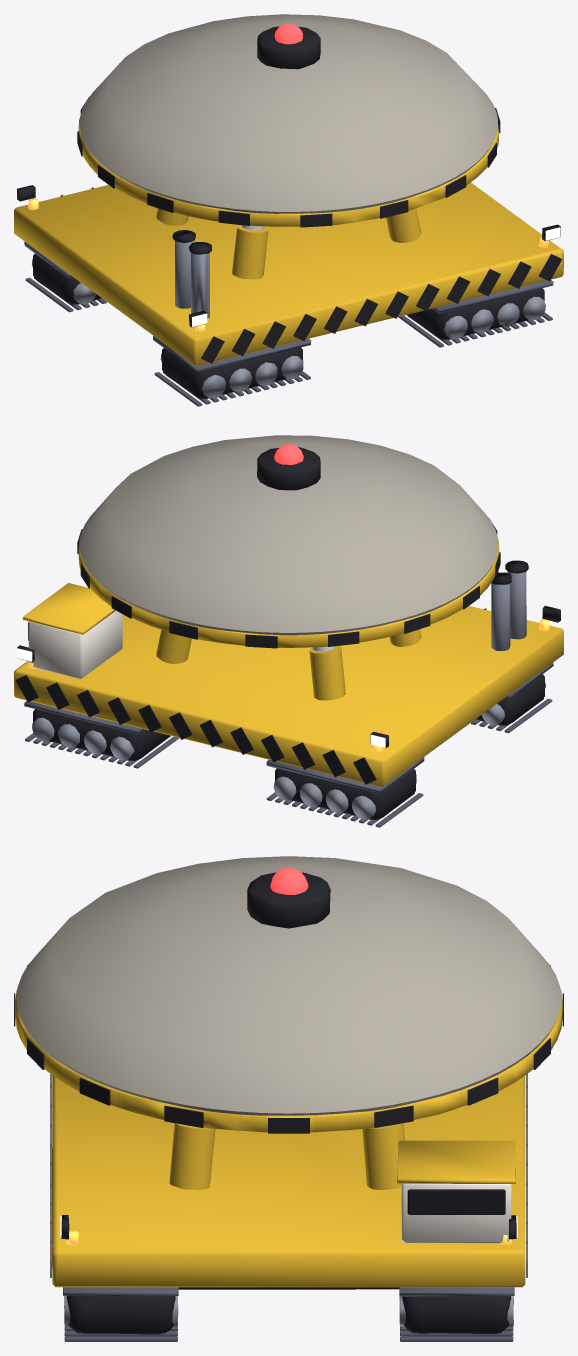
File: capper.glb
3 views of the same model, one above another, from view 1: azimuth 30°, elevation 25°; view 2: azimuth 150°, elevation 25°; view 3: azimuth 270°, elevation 25° (orthographic). The views are drawn at different scales.
Visible parts, largest first — view 1: capper; view 2: capper; view 3: capper.
Boxes of the visible parts, x1,y1,x2,y2 form: capper: (14, 14, 563, 406); capper: (14, 435, 563, 827); capper: (14, 856, 563, 1341).
Bounding box in the file's own units: 39.88 × 28.36 × 39.34.
1 material, 1 textured.
